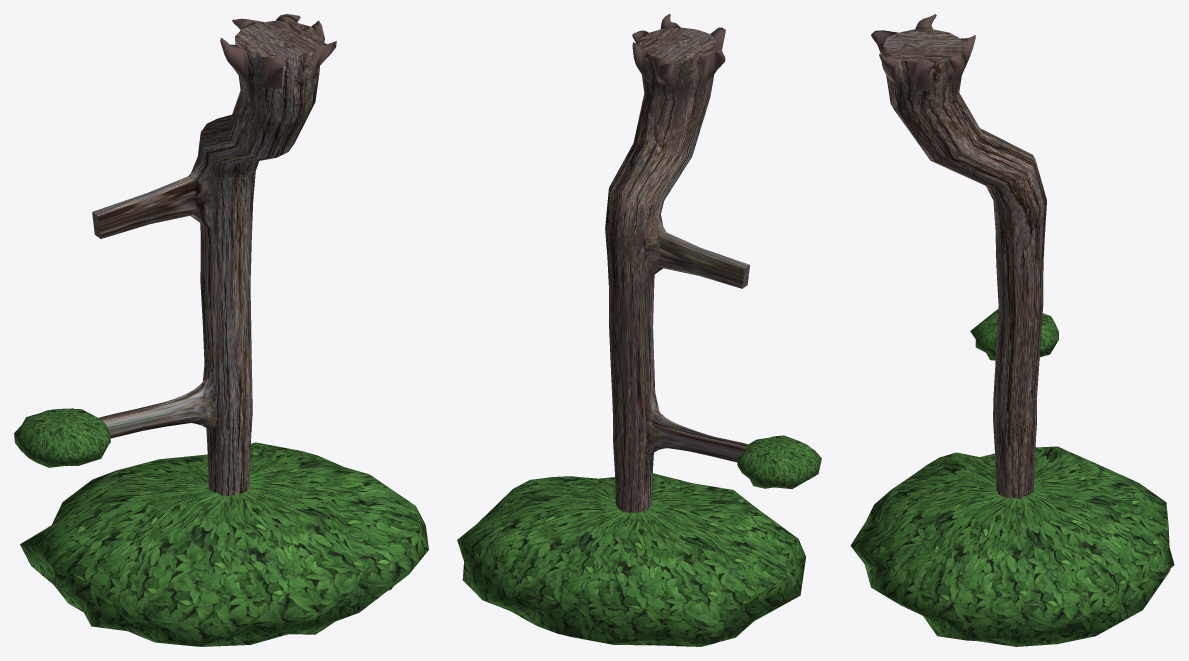
Rendered from Tree3.FBX.
3 renders of one model, left to right at view 1: azimuth 30°, elevation 25°; view 2: azimuth 150°, elevation 25°; view 3: azimuth 270°, elevation 25°, orthographic. The views are drawn at different scales.
Parts seen in each view (by area): view 1: Baum001; view 2: Baum001; view 3: Baum001.
Boxes of the visible parts, box(x1,y1,x2,y2) form: Baum001: box(14, 14, 428, 646); Baum001: box(457, 14, 821, 646); Baum001: box(850, 14, 1174, 646).
Size of the model in its own units: 44.35 by 69.85 by 36.13.
